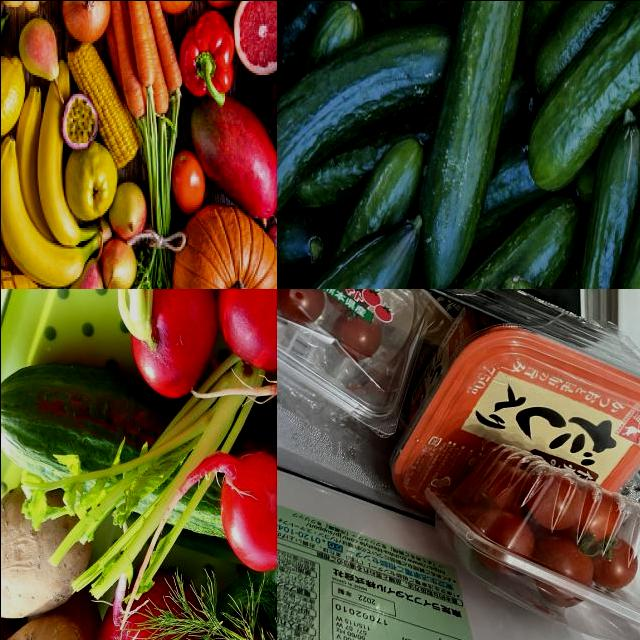bell_pepper: (179, 13, 235, 105)
cucumber: (277, 22, 456, 218), (420, 1, 531, 289), (524, 1, 640, 194), (556, 70, 640, 289), (558, 112, 640, 289), (277, 217, 421, 289)
onion: (64, 1, 112, 45)
potato: (1, 522, 79, 612)
tomato: (170, 151, 205, 211)
